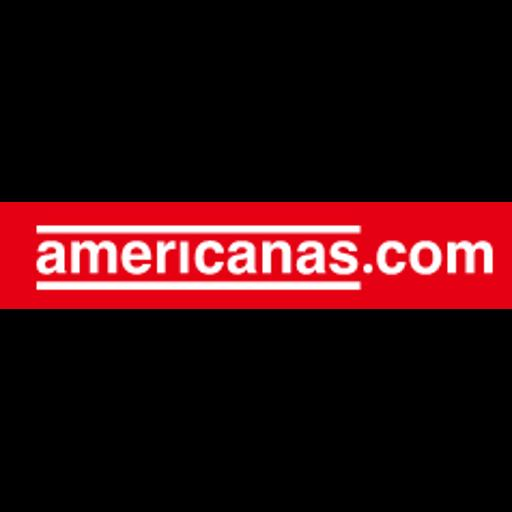Americanas-com S: (0, 202, 512, 309)
